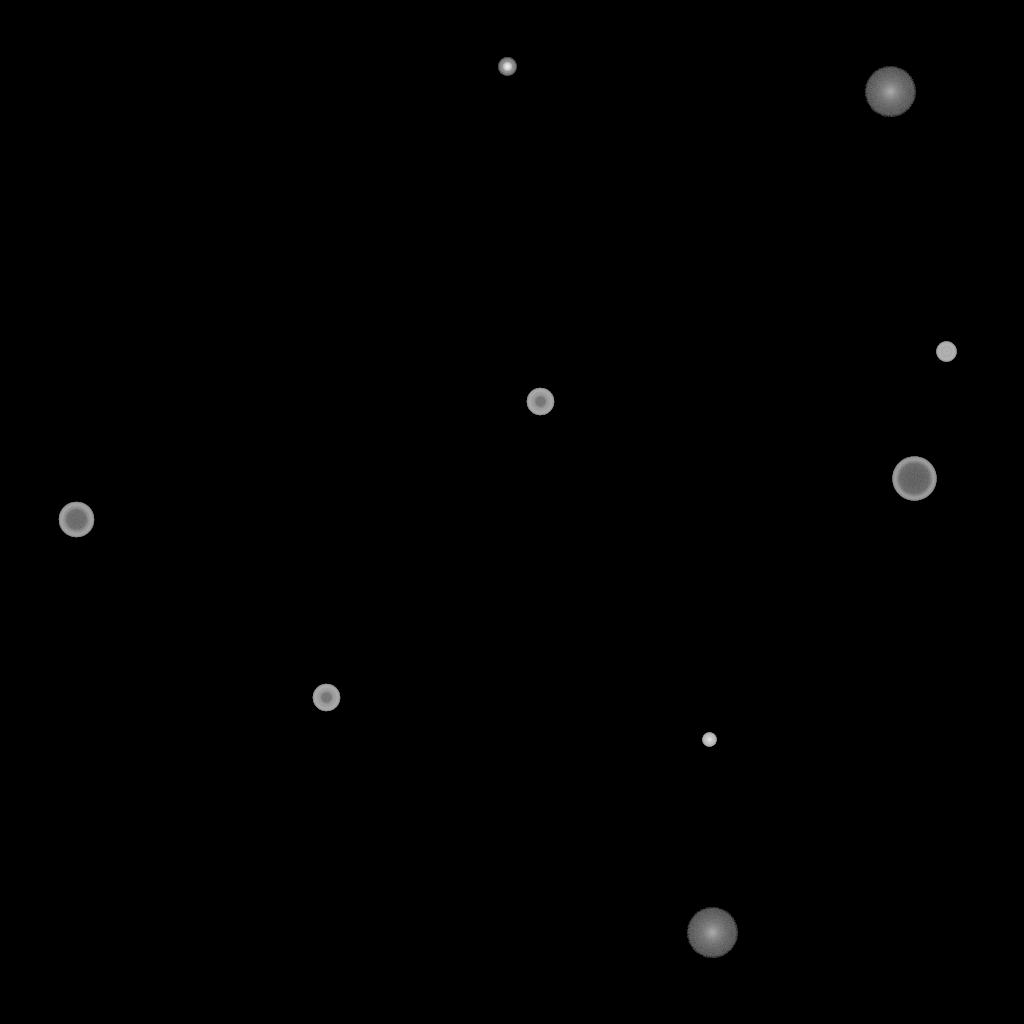depth:-20: (498, 58, 516, 76)
depth:-30: (702, 733, 716, 747)
depth:-40: (936, 342, 956, 362)
depth:-50: (526, 388, 554, 416), (312, 684, 340, 712)
depth:-60: (58, 502, 94, 538)
depth:-70: (892, 457, 936, 501)
depth:20: (686, 908, 738, 958), (864, 67, 916, 117)
